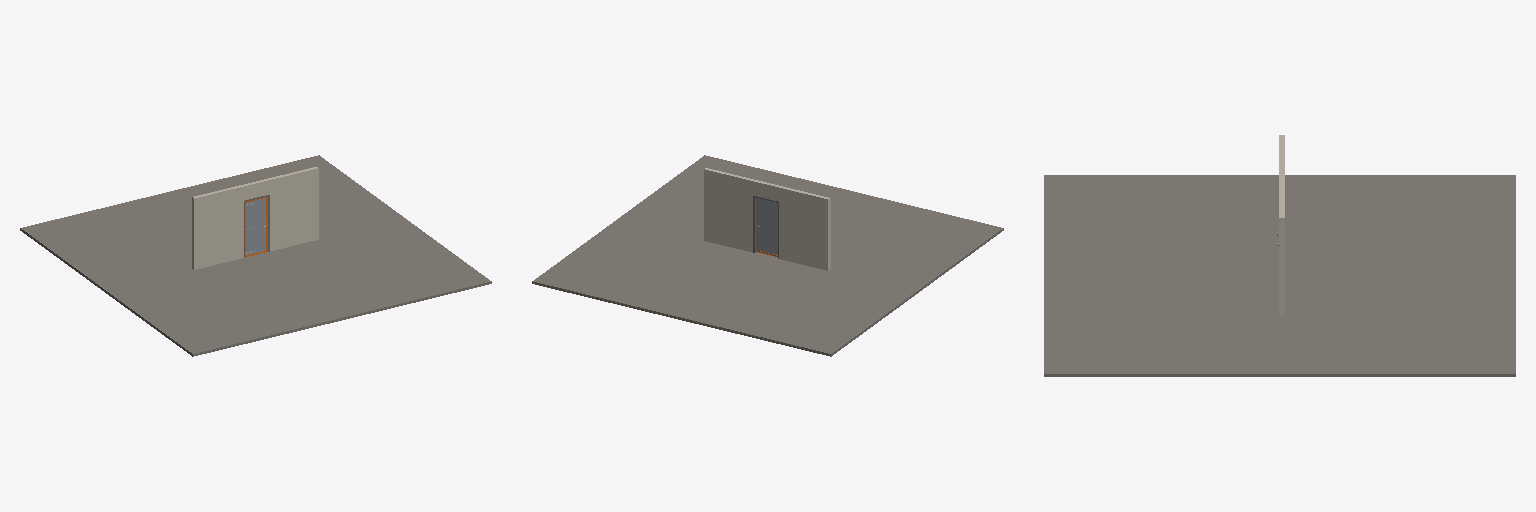
The robot description file, URDF, robot "db0040_swing_single_simple":
<?xml version="1.0" ?>
<robot xmlns:doorbench="https://github.com/adamraudonis/DoorBench/schema/urdf-ext" name="db0040_swing_single_simple">
  <link name="world_env">
    <visual name="floor_vis">
      <origin xyz="0 0 -0.05" rpy="0 0 0"/>
      <geometry>
        <box size="12 12 0.1"/>
      </geometry>
      <material name="mat_floor"/>
    </visual>
    <collision name="floor_col">
      <origin xyz="0 0 -0.05" rpy="0 0 0"/>
      <geometry>
        <box size="12 12 0.1"/>
      </geometry>
    </collision>
    <visual name="wall_left_vis">
      <origin xyz="-1.50525 0.048 1.3735" rpy="0 0 0"/>
      <geometry>
        <box size="1.9895 0.145 2.747"/>
      </geometry>
      <material name="mat_wall"/>
    </visual>
    <collision name="wall_left_col">
      <origin xyz="-1.50525 0.048 1.3735" rpy="0 0 0"/>
      <geometry>
        <box size="1.9895 0.145 2.747"/>
      </geometry>
    </collision>
    <visual name="wall_right_vis">
      <origin xyz="1.52025 0.048 1.3735" rpy="0 0 0"/>
      <geometry>
        <box size="1.9595 0.145 2.747"/>
      </geometry>
      <material name="mat_wall"/>
    </visual>
    <collision name="wall_right_col">
      <origin xyz="1.52025 0.048 1.3735" rpy="0 0 0"/>
      <geometry>
        <box size="1.9595 0.145 2.747"/>
      </geometry>
    </collision>
    <visual name="wall_header_vis">
      <origin xyz="0.015 0.048 2.487" rpy="0 0 0"/>
      <geometry>
        <box size="1.051 0.145 0.52"/>
      </geometry>
      <material name="mat_wall"/>
    </visual>
    <collision name="wall_header_col">
      <origin xyz="0.015 0.048 2.487" rpy="0 0 0"/>
      <geometry>
        <box size="1.051 0.145 0.52"/>
      </geometry>
    </collision>
    <visual name="hinge_pintle_0_vis">
      <origin xyz="-0.4575 -0.0245 0.133" rpy="0 0 0"/>
      <geometry>
        <cylinder radius="0.008" length="0.04"/>
      </geometry>
      <material name="mat_hinge"/>
    </visual>
    <visual name="hinge_pintle_1_vis">
      <origin xyz="-0.4575 -0.0245 1.05" rpy="0 0 0"/>
      <geometry>
        <cylinder radius="0.008" length="0.04"/>
      </geometry>
      <material name="mat_hinge"/>
    </visual>
    <visual name="hinge_pintle_2_vis">
      <origin xyz="-0.4575 -0.0245 1.967" rpy="0 0 0"/>
      <geometry>
        <cylinder radius="0.008" length="0.04"/>
      </geometry>
      <material name="mat_hinge"/>
    </visual>
    <visual name="leaf_staple_leg_n_vis">
      <origin xyz="0.4885 -0.0375 1.2275" rpy="1.570796 0 0"/>
      <geometry>
        <box size="0.006 0.005 0.026"/>
      </geometry>
      <material name="mat_op_steel_galvanized"/>
    </visual>
    <collision name="leaf_staple_leg_n_col">
      <origin xyz="0.4885 -0.0375 1.2275" rpy="1.570796 0 0"/>
      <geometry>
        <box size="0.006 0.005 0.026"/>
      </geometry>
    </collision>
    <visual name="leaf_staple_leg_p_vis">
      <origin xyz="0.4885 -0.0375 1.2525" rpy="1.570796 0 0"/>
      <geometry>
        <box size="0.006 0.005 0.026"/>
      </geometry>
      <material name="mat_op_steel_galvanized"/>
    </visual>
    <collision name="leaf_staple_leg_p_col">
      <origin xyz="0.4885 -0.0375 1.2525" rpy="1.570796 0 0"/>
      <geometry>
        <box size="0.006 0.005 0.026"/>
      </geometry>
    </collision>
    <visual name="leaf_staple_bridge_vis">
      <origin xyz="0.4885 -0.048 1.24" rpy="1.570796 0 0"/>
      <geometry>
        <box size="0.006 0.03 0.005"/>
      </geometry>
      <material name="mat_op_steel_galvanized"/>
    </visual>
    <collision name="leaf_staple_bridge_col">
      <origin xyz="0.4885 -0.048 1.24" rpy="1.570796 0 0"/>
      <geometry>
        <box size="0.006 0.03 0.005"/>
      </geometry>
    </collision>
    <visual name="leaf_staple_base_vis">
      <origin xyz="0.4885 -0.0255 1.24" rpy="1.570796 0 0"/>
      <geometry>
        <box size="0.032 0.042 0.002"/>
      </geometry>
      <material name="mat_op_steel_galvanized"/>
    </visual>
    <visual name="jamb_hinge_vis">
      <origin xyz="-0.4855 0.048 1.0735" rpy="0 0 0"/>
      <geometry>
        <box size="0.05 0.145 2.147"/>
      </geometry>
      <material name="mat_frame"/>
    </visual>
    <collision name="jamb_hinge_col">
      <origin xyz="-0.4855 0.048 1.0735" rpy="0 0 0"/>
      <geometry>
        <box size="0.05 0.145 2.147"/>
      </geometry>
    </collision>
    <visual name="strike_1040_wall_n_vis">
      <origin xyz="0.5005 0.065 1.04" rpy="0 0 0"/>
      <geometry>
        <box size="0.08 0.111 0.0366"/>
      </geometry>
      <material name="mat_frame"/>
    </visual>
    <collision name="strike_1040_wall_n_col">
      <origin xyz="0.5005 0.065 1.04" rpy="0 0 0"/>
      <geometry>
        <box size="0.08 0.111 0.0366"/>
      </geometry>
    </collision>
    <visual name="strike_1040_wall_p_vis">
      <origin xyz="0.5005 -0.0175 1.04" rpy="0 0 0"/>
      <geometry>
        <box size="0.08 0.016 0.0366"/>
      </geometry>
      <material name="mat_frame"/>
    </visual>
    <collision name="strike_1040_wall_p_col">
      <origin xyz="0.5005 -0.0175 1.04" rpy="0 0 0"/>
      <geometry>
        <box size="0.08 0.016 0.0366"/>
      </geometry>
    </collision>
    <visual name="strike_1040_ramp_vis">
      <origin xyz="0.503782 -0.018312 1.04" rpy="0 0 0.588003"/>
      <geometry>
        <box size="0.08 0.036056 0.0366"/>
      </geometry>
      <material name="mat_frame"/>
    </visual>
    <collision name="strike_1040_ramp_col">
      <origin xyz="0.503782 -0.018312 1.04" rpy="0 0 0.588003"/>
      <geometry>
        <box size="0.08 0.036056 0.0366"/>
      </geometry>
    </collision>
    <visual name="strike_1040_back_vis">
      <origin xyz="0.512 0 1.04" rpy="0 0 0"/>
      <geometry>
        <box size="0.057 0.019 0.0366"/>
      </geometry>
      <material name="mat_frame"/>
    </visual>
    <collision name="strike_1040_back_col">
      <origin xyz="0.512 0 1.04" rpy="0 0 0"/>
      <geometry>
        <box size="0.057 0.019 0.0366"/>
      </geometry>
    </collision>
    <visual name="jamb_strike_0_vis">
      <origin xyz="0.5005 0.048 0.51085" rpy="0 0 0"/>
      <geometry>
        <box size="0.08 0.145 1.0217"/>
      </geometry>
      <material name="mat_frame"/>
    </visual>
    <collision name="jamb_strike_0_col">
      <origin xyz="0.5005 0.048 0.51085" rpy="0 0 0"/>
      <geometry>
        <box size="0.08 0.145 1.0217"/>
      </geometry>
    </collision>
    <visual name="jamb_strike_1_vis">
      <origin xyz="0.5005 0.048 1.60265" rpy="0 0 0"/>
      <geometry>
        <box size="0.08 0.145 1.0887"/>
      </geometry>
      <material name="mat_frame"/>
    </visual>
    <collision name="jamb_strike_1_col">
      <origin xyz="0.5005 0.048 1.60265" rpy="0 0 0"/>
      <geometry>
        <box size="0.08 0.145 1.0887"/>
      </geometry>
    </collision>
    <visual name="jamb_head_vis">
      <origin xyz="0.015 0.048 2.172" rpy="0 0 0"/>
      <geometry>
        <box size="1.051 0.145 0.05"/>
      </geometry>
      <material name="mat_frame"/>
    </visual>
    <collision name="jamb_head_col">
      <origin xyz="0.015 0.048 2.172" rpy="0 0 0"/>
      <geometry>
        <box size="1.051 0.145 0.05"/>
      </geometry>
    </collision>
    <visual name="head_stud_vis">
      <origin xyz="0.015 0.048 2.212" rpy="0 0 0"/>
      <geometry>
        <box size="1.051 0.145 0.03"/>
      </geometry>
      <material name="mat_wall"/>
    </visual>
    <collision name="head_stud_col">
      <origin xyz="0.015 0.048 2.212" rpy="0 0 0"/>
      <geometry>
        <box size="1.051 0.145 0.03"/>
      </geometry>
    </collision>
    <visual name="stop_hinge_vis">
      <origin xyz="-0.455 0.034 1.0735" rpy="0 0 0"/>
      <geometry>
        <box size="0.011 0.032 2.147"/>
      </geometry>
      <material name="mat_frame"/>
    </visual>
    <collision name="stop_hinge_col">
      <origin xyz="-0.455 0.034 1.0735" rpy="0 0 0"/>
      <geometry>
        <box size="0.011 0.032 2.147"/>
      </geometry>
    </collision>
    <visual name="stop_strike_vis">
      <origin xyz="0.455 0.034 1.0735" rpy="0 0 0"/>
      <geometry>
        <box size="0.011 0.032 2.147"/>
      </geometry>
      <material name="mat_frame"/>
    </visual>
    <collision name="stop_strike_col">
      <origin xyz="0.455 0.034 1.0735" rpy="0 0 0"/>
      <geometry>
        <box size="0.011 0.032 2.147"/>
      </geometry>
    </collision>
    <visual name="stop_head_vis">
      <origin xyz="0 0.034 2.1415" rpy="0 0 0"/>
      <geometry>
        <box size="0.921 0.032 0.011"/>
      </geometry>
      <material name="mat_frame"/>
    </visual>
    <collision name="stop_head_col">
      <origin xyz="0 0.034 2.1415" rpy="0 0 0"/>
      <geometry>
        <box size="0.921 0.032 0.011"/>
      </geometry>
    </collision>
    <visual name="hinge_pintle_0_strap_0_vis">
      <origin xyz="-0.4575 0.00075 0.133" rpy="0 0 0"/>
      <geometry>
        <box size="0.0128 0.0355 0.032"/>
      </geometry>
      <material name="mat_hinge"/>
    </visual>
    <visual name="hinge_pintle_1_strap_0_vis">
      <origin xyz="-0.4575 0.00075 1.05" rpy="0 0 0"/>
      <geometry>
        <box size="0.0128 0.0355 0.032"/>
      </geometry>
      <material name="mat_hinge"/>
    </visual>
    <visual name="hinge_pintle_2_strap_0_vis">
      <origin xyz="-0.4575 0.00075 1.967" rpy="0 0 0"/>
      <geometry>
        <box size="0.0128 0.0355 0.032"/>
      </geometry>
      <material name="mat_hinge"/>
    </visual>
  </link>
  <link name="leaf">
    <inertial>
      <origin xyz="0.43902 0.023133 1.076591" rpy="0 0 0"/>
      <mass value="48.091913"/>
      <inertia ixx="18.726646177" ixy="-0.016992629" ixz="-0.011322537" iyy="22.193116509" iyz="0.000628089" izz="3.478363905"/>
    </inertial>
    <collision name="leaf_slab_col_col">
      <origin xyz="0.457 0.0245 1.076" rpy="0 0 0"/>
      <geometry>
        <box size="0.914 0.035 2.134"/>
      </geometry>
    </collision>
    <visual name="leaf_rail_b_vis">
      <origin xyz="0.457 0.0245 0.0315" rpy="0 0 0"/>
      <geometry>
        <box size="0.914 0.035 0.045"/>
      </geometry>
      <material name="mat_leaf"/>
    </visual>
    <visual name="leaf_rail_t_vis">
      <origin xyz="0.457 0.0245 2.1205" rpy="0 0 0"/>
      <geometry>
        <box size="0.914 0.035 0.045"/>
      </geometry>
      <material name="mat_leaf"/>
    </visual>
    <visual name="leaf_stile_h_vis">
      <origin xyz="0.0225 0.0245 1.076" rpy="0 0 0"/>
      <geometry>
        <box size="0.045 0.035 2.134"/>
      </geometry>
      <material name="mat_leaf"/>
    </visual>
    <visual name="leaf_stile_l_vis">
      <origin xyz="0.8915 0.0245 1.076" rpy="0 0 0"/>
      <geometry>
        <box size="0.045 0.035 2.134"/>
      </geometry>
      <material name="mat_leaf"/>
    </visual>
    <visual name="leaf_mesh_vis">
      <origin xyz="0.457 0.0245 1.076" rpy="0 0 0"/>
      <geometry>
        <box size="0.824 0.003 2.044"/>
      </geometry>
      <material name="mat_mesh_infill"/>
    </visual>
    <visual name="hinge_strap_0_vis">
      <origin xyz="0 0.004 0.159" rpy="0 0 0"/>
      <geometry>
        <mesh filename="../../hardware/strap_hinge_78d1bbb966.obj"/>
      </geometry>
      <material name="mat_hinge"/>
    </visual>
    <visual name="hinge_strap_eye_0_vis">
      <origin xyz="0 0 0.159" rpy="0 0 0"/>
      <geometry>
        <cylinder radius="0.011" length="0.024"/>
      </geometry>
      <material name="mat_hinge"/>
    </visual>
    <visual name="hinge_strap_neck_0_vis">
      <origin xyz="0 0.002 0.159" rpy="0 0 0"/>
      <geometry>
        <box size="0.024 0.012 0.012"/>
      </geometry>
      <material name="mat_hinge"/>
    </visual>
    <visual name="hinge_strap_1_vis">
      <origin xyz="0 0.004 1.076" rpy="0 0 0"/>
      <geometry>
        <mesh filename="../../hardware/strap_hinge_78d1bbb966.obj"/>
      </geometry>
      <material name="mat_hinge"/>
    </visual>
    <visual name="hinge_strap_eye_1_vis">
      <origin xyz="0 0 1.076" rpy="0 0 0"/>
      <geometry>
        <cylinder radius="0.011" length="0.024"/>
      </geometry>
      <material name="mat_hinge"/>
    </visual>
    <visual name="hinge_strap_neck_1_vis">
      <origin xyz="0 0.002 1.076" rpy="0 0 0"/>
      <geometry>
        <box size="0.024 0.012 0.012"/>
      </geometry>
      <material name="mat_hinge"/>
    </visual>
    <visual name="hinge_strap_2_vis">
      <origin xyz="0 0.004 1.993" rpy="0 0 0"/>
      <geometry>
        <mesh filename="../../hardware/strap_hinge_78d1bbb966.obj"/>
      </geometry>
      <material name="mat_hinge"/>
    </visual>
    <visual name="hinge_strap_eye_2_vis">
      <origin xyz="0 0 1.993" rpy="0 0 0"/>
      <geometry>
        <cylinder radius="0.011" length="0.024"/>
      </geometry>
      <material name="mat_hinge"/>
    </visual>
    <visual name="hinge_strap_neck_2_vis">
      <origin xyz="0 0.002 1.993" rpy="0 0 0"/>
      <geometry>
        <box size="0.024 0.012 0.012"/>
      </geometry>
      <material name="mat_hinge"/>
    </visual>
    <visual name="leaf_latch_bolt_faceplate_vis">
      <origin xyz="0.9134 0.0245 1.04" rpy="0 0 0"/>
      <geometry>
        <box size="0.0012 0.028 0.0566"/>
      </geometry>
      <material name="mat_bolt"/>
    </visual>
    <visual name="leaf_hasp_plate_vis">
      <origin xyz="0.839 0.0015 1.24" rpy="1.570796 0 0"/>
      <geometry>
        <box size="0.048 0.043 0.011"/>
      </geometry>
      <material name="mat_op_steel_galvanized"/>
    </visual>
  </link>
  <link name="leaf_handle">
    <inertial>
      <origin xyz="-0.030188 0 0" rpy="0 0 0"/>
      <mass value="0.924918"/>
      <inertia ixx="0.003128751" ixy="0" ixz="0" iyy="0.001725188" iyz="0" izz="0.004676694"/>
    </inertial>
    <visual name="leaf_handle_lever_n_vis">
      <origin xyz="0 -0.0175 0" rpy="1.570796 0 0"/>
      <geometry>
        <mesh filename="../../hardware/lever_9f02b544cf.obj"/>
      </geometry>
      <material name="mat_op_nickel_satin"/>
    </visual>
    <collision name="leaf_handle_lever_col_n_col">
      <origin xyz="-0.0625 -0.0725 0" rpy="0 -1.570796 0"/>
      <geometry>
        <cylinder radius="0.0095" length="0.106"/>
      </geometry>
    </collision>
    <collision name="leaf_handle_hub_col_n_col">
      <origin xyz="0 -0.0475 0" rpy="-1.570796 0 0"/>
      <geometry>
        <cylinder radius="0.012" length="0.044"/>
      </geometry>
    </collision>
    <visual name="leaf_handle_lever_p_vis">
      <origin xyz="0 0.0175 0" rpy="-1.570796 0 0"/>
      <geometry>
        <mesh filename="../../hardware/lever_9f02b544cf.obj"/>
      </geometry>
      <material name="mat_op_nickel_satin"/>
    </visual>
    <collision name="leaf_handle_lever_col_p_col">
      <origin xyz="-0.0625 0.0725 0" rpy="0 -1.570796 0"/>
      <geometry>
        <cylinder radius="0.0095" length="0.106"/>
      </geometry>
    </collision>
    <collision name="leaf_handle_hub_col_p_col">
      <origin xyz="0 0.0475 0" rpy="-1.570796 0 0"/>
      <geometry>
        <cylinder radius="0.012" length="0.044"/>
      </geometry>
    </collision>
  </link>
  <link name="leaf_latch_bolt">
    <inertial>
      <origin xyz="-0.0055 0 0" rpy="0 0 0"/>
      <mass value="0.074627"/>
      <inertia ixx="0.000002271" ixy="0" ixz="0" iyy="0.000013255" iyz="0" izz="0.000013255"/>
    </inertial>
    <visual name="leaf_latch_bolt_capsule_vis">
      <origin xyz="-0.0055 0 0" rpy="0 1.570796 0"/>
      <geometry>
        <cylinder radius="0.008" length="0.033"/>
      </geometry>
      <material name="mat_bolt"/>
    </visual>
    <collision name="leaf_latch_bolt_capsule_col">
      <origin xyz="-0.0055 0 0" rpy="0 1.570796 0"/>
      <geometry>
        <cylinder radius="0.008" length="0.033"/>
      </geometry>
    </collision>
  </link>
  <link name="leaf_hasp">
    <inertial>
      <origin xyz="-0.051854 -0.016844 0" rpy="0 0 0"/>
      <mass value="0.089271"/>
      <inertia ixx="0.000019091" ixy="-0.000027876" ixz="0" iyy="0.000087588" iyz="0" izz="0.000088453"/>
    </inertial>
    <visual name="leaf_hasp_strap_vis">
      <origin xyz="-0.051854 -0.016844 0" rpy="1.570796 0 -2.8"/>
      <geometry>
        <box size="0.109 0.035 0.003"/>
      </geometry>
      <material name="mat_op_steel_galvanized"/>
    </visual>
    <collision name="leaf_hasp_strap_col">
      <origin xyz="-0.051854 -0.016844 0" rpy="1.570796 0 -2.8"/>
      <geometry>
        <box size="0.109 0.035 0.003"/>
      </geometry>
    </collision>
  </link>
  <joint name="leaf_hinge" type="revolute">
    <origin xyz="-0.4575 -0.0245 0" rpy="0 0 0"/>
    <parent link="world_env"/>
    <child link="leaf"/>
    <axis xyz="0 0 -1"/>
    <limit lower="0" upper="1.745329" effort="2000" velocity="10"/>
    <dynamics damping="0.318966" friction="5.155918"/>
    <doorbench:closer damping_closing="0" damping_opening="0" backcheck_angle="0" backcheck_damping="0"/>
  </joint>
  <joint name="leaf_handle_hinge" type="revolute">
    <origin xyz="0.844 0.0245 1.04" rpy="0 0 0"/>
    <parent link="leaf"/>
    <child link="leaf_handle"/>
    <axis xyz="0 -1 0"/>
    <limit lower="0" upper="0.96" effort="2000" velocity="10"/>
    <dynamics damping="0.245623" friction="0.048"/>
    <doorbench:spring stiffness="1.2" springref="-0.458333" note="tau = -stiffness*(q - springref); not native URDF"/>
  </joint>
  <joint name="leaf_latch_bolt_slide" type="prismatic">
    <origin xyz="0.914 0.0245 1.04" rpy="0 0 0"/>
    <parent link="leaf"/>
    <child link="leaf_latch_bolt"/>
    <axis xyz="-1 0 0"/>
    <limit lower="0" upper="0.019" effort="5000" velocity="10"/>
    <dynamics damping="2" friction="0.3"/>
    <doorbench:spring stiffness="600" springref="-0.01" note="tau = -stiffness*(q - springref); not native URDF"/>
    <mimic joint="leaf_handle_hinge" multiplier="0.020879" offset="0"/>
    <doorbench:coupling one_sided="true" note="MJCF uses a one-sided tendon (bolt may retract further, e.g. riding over the strike lip); mimic is bilateral"/>
  </joint>
  <joint name="leaf_hasp_hinge" type="revolute">
    <origin xyz="0.859 -0.004 1.24" rpy="0 0 0"/>
    <parent link="leaf"/>
    <child link="leaf_hasp"/>
    <axis xyz="0 0 -1"/>
    <doorbench:zero_offset value="2.8" note="URDF q=0 is the spec initial state; DoorBench q = urdf_q + value"/>
    <limit lower="-2.8" upper="0.1" effort="2000" velocity="10"/>
    <dynamics damping="0.02" friction="0.05"/>
  </joint>
  <material name="mat_bolt">
    <color rgba="0.85 0.66 0.3 1"/>
  </material>
  <material name="mat_floor">
    <color rgba="0.55 0.53 0.5 1"/>
  </material>
  <material name="mat_frame">
    <color rgba="0.45 0.48 0.52 1"/>
  </material>
  <material name="mat_hinge">
    <color rgba="0.65 0.66 0.68 1"/>
  </material>
  <material name="mat_leaf">
    <color rgba="0.9 0.45 0.1 1"/>
  </material>
  <material name="mat_mesh_infill">
    <color rgba="0.6 0.62 0.64 0.55"/>
  </material>
  <material name="mat_op_nickel_satin">
    <color rgba="0.72 0.7 0.66 1"/>
  </material>
  <material name="mat_op_steel_galvanized">
    <color rgba="0.65 0.66 0.68 1"/>
  </material>
  <material name="mat_wall">
    <color rgba="0.78 0.76 0.7 1"/>
  </material>
</robot>

--- Render facts (derived) ---
Views: 3 orthographic renders of the robot side by side, from view 1: azimuth 30°, elevation 25°; view 2: azimuth 150°, elevation 25°; view 3: azimuth 270°, elevation 25°.
Robot: db0040_swing_single_simple — 5 links, 4 joints (3 revolute, 1 prismatic); root link world_env; default pose: every joint at zero.
Links seen in each view (by area): view 1: world_env, leaf; view 2: world_env, leaf; view 3: world_env.
Boxes of the visible links, left/top/right/bottom form: world_env: left=20, top=155, right=491, bottom=356; leaf: left=245, top=196, right=267, bottom=256; world_env: left=532, top=155, right=1003, bottom=356; leaf: left=757, top=198, right=777, bottom=256; world_env: left=1044, top=135, right=1515, bottom=376.
Bounding box of the posed robot: 12 × 12 × 2.85 m (x, y, z).
Meshes: 2 distinct files referenced, 5 mesh visuals loaded (2 OBJ).
